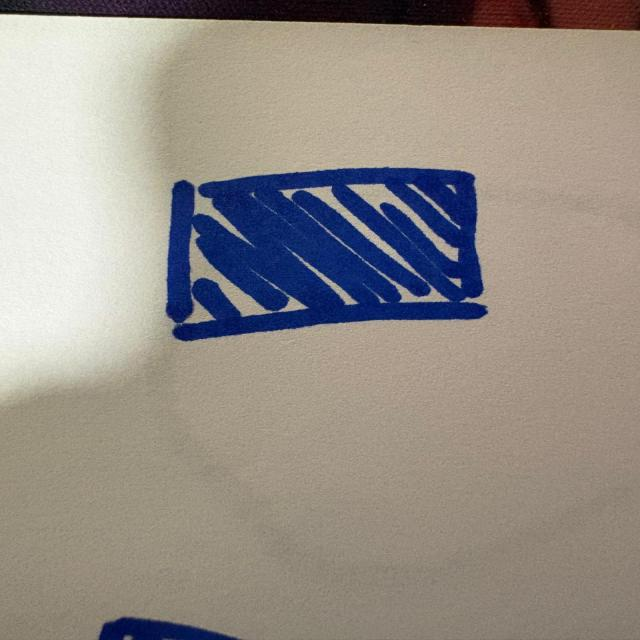Rectangle: (154, 158, 516, 339)
